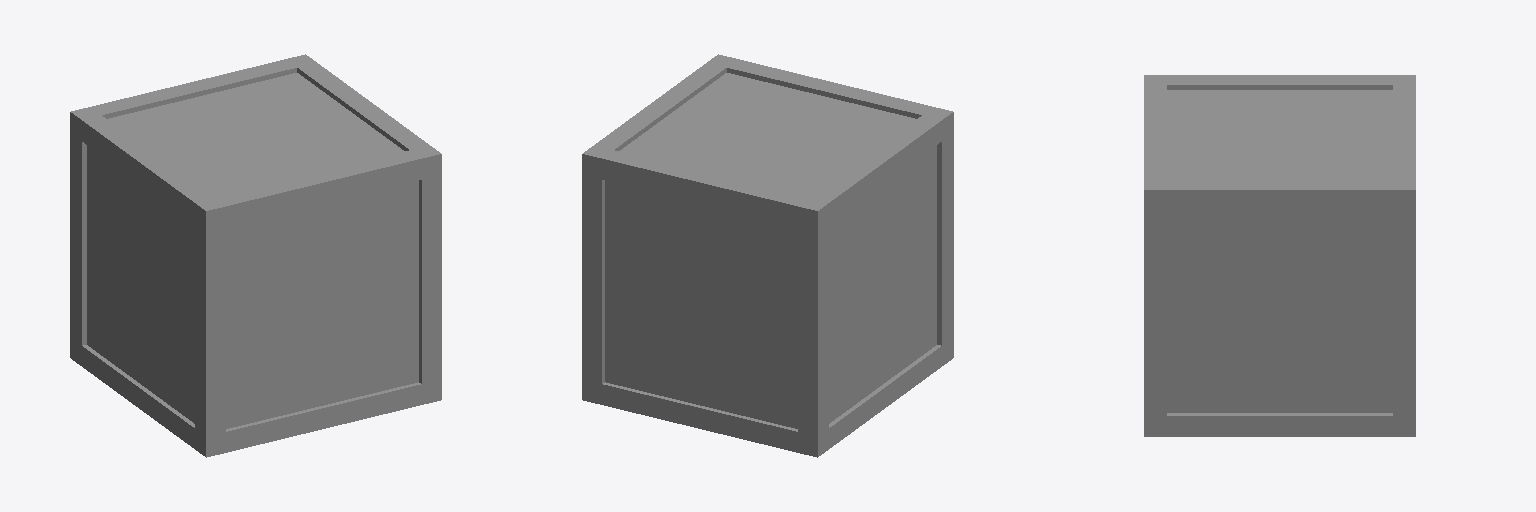
Rendered from crate.obj.
3 renders of one model, left to right at view 1: azimuth 30°, elevation 25°; view 2: azimuth 150°, elevation 25°; view 3: azimuth 270°, elevation 25°, orthographic.
Parts seen in each view (by area): view 1: Wood_container1; view 2: Wood_container1; view 3: Wood_container1.
Boxes of the visible parts, x1=… form: Wood_container1: x1=70, y1=54, x2=441, y2=457; Wood_container1: x1=582, y1=54, x2=953, y2=457; Wood_container1: x1=1144, y1=75, x2=1415, y2=436.
Size of the model in its own units: 15 by 15 by 15.